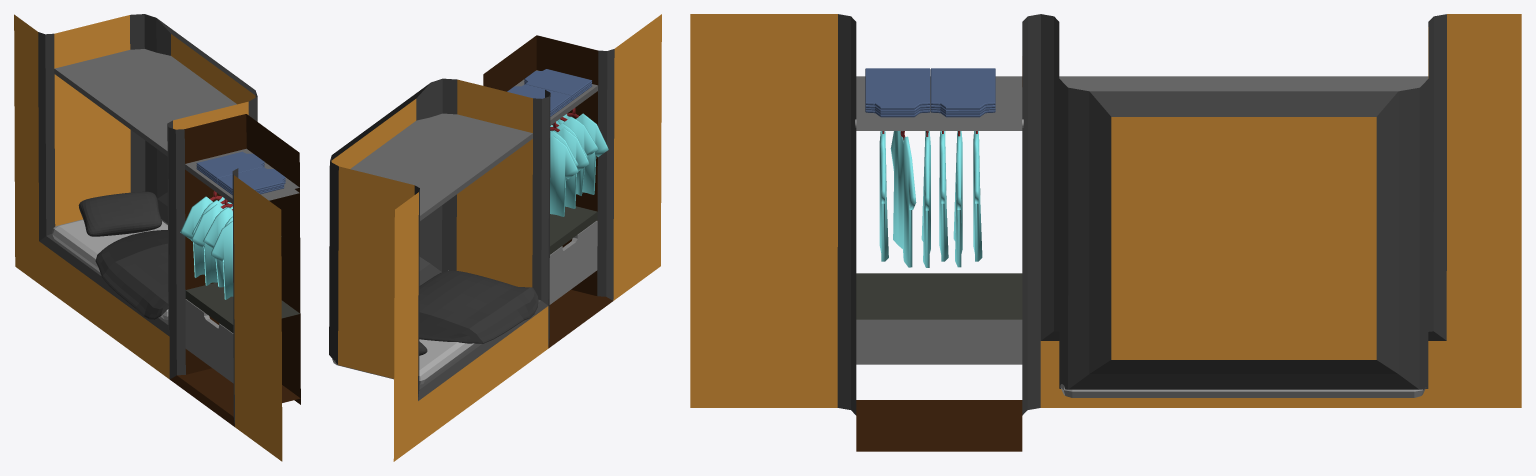
The model's file is Bed.fbx.
3 views of the same model, side by side, from view 1: azimuth 30°, elevation 25°; view 2: azimuth 150°, elevation 25°; view 3: azimuth 270°, elevation 25° (orthographic). The views are drawn at different scales.
Parts seen in each view (by area): view 1: Cube, Light stripes; view 2: Cube, Light stripes; view 3: Cube, Light stripes.
Part boxes in pixels (box(x1,y1,x2,y2)): Cube: box(14, 14, 300, 461); Light stripes: box(38, 14, 257, 375); Cube: box(329, 14, 661, 461); Light stripes: box(330, 50, 607, 400); Cube: box(690, 14, 1521, 451); Light stripes: box(851, 14, 1446, 415).
Size of the model in its own units: 116 by 236 by 451.
